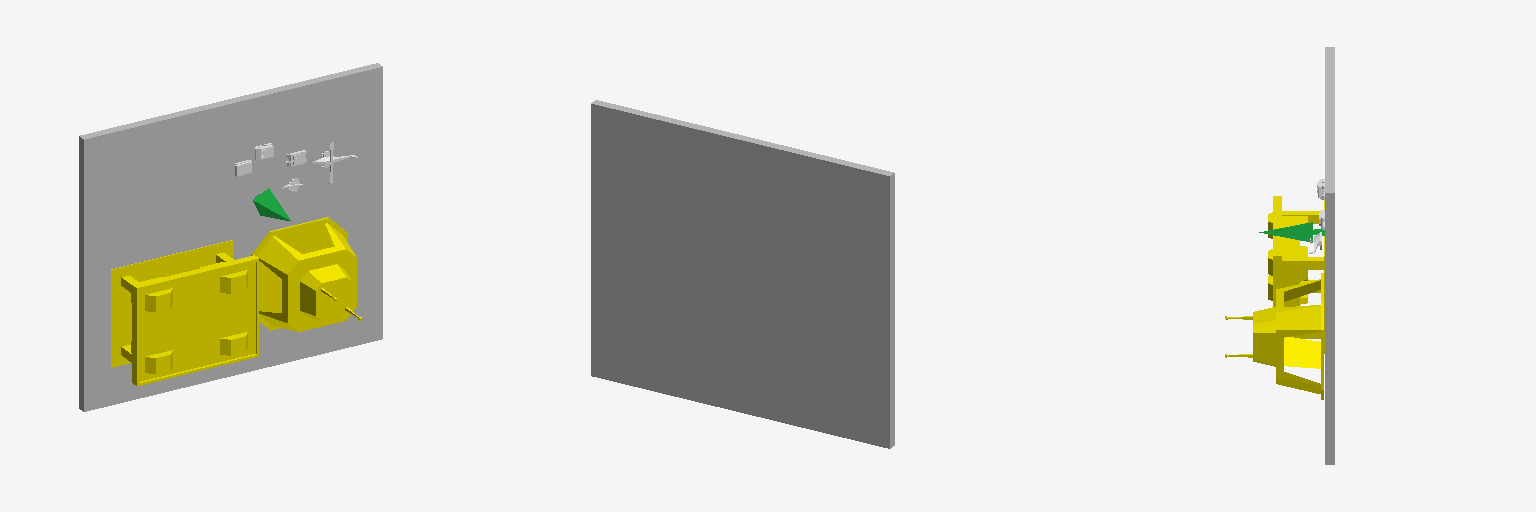
Rendered from raic4_colored2.obj.
The picture shows the model from 3 angles: view 1: azimuth 30°, elevation 25°; view 2: azimuth 150°, elevation 25°; view 3: azimuth 270°, elevation 25°; orthographic projection.
Parts seen in each view (by area): view 1: Object.19, Object.10, Object.4, Object.12; view 2: Object.19; view 3: Object.4, Object.19, Object.10, Object.12.
Boxes of the visible parts, box(x1,y1,x2,y2) form: Object.19: box(79, 63, 382, 411); Object.10: box(111, 240, 258, 385); Object.4: box(251, 217, 361, 331); Object.12: box(253, 188, 291, 221); Object.19: box(591, 100, 894, 448); Object.4: box(1225, 273, 1323, 399); Object.19: box(1325, 47, 1334, 464); Object.10: box(1268, 196, 1324, 353); Object.12: box(1259, 222, 1324, 242).
Size of the model in its own units: 1345 by 1172 by 431.